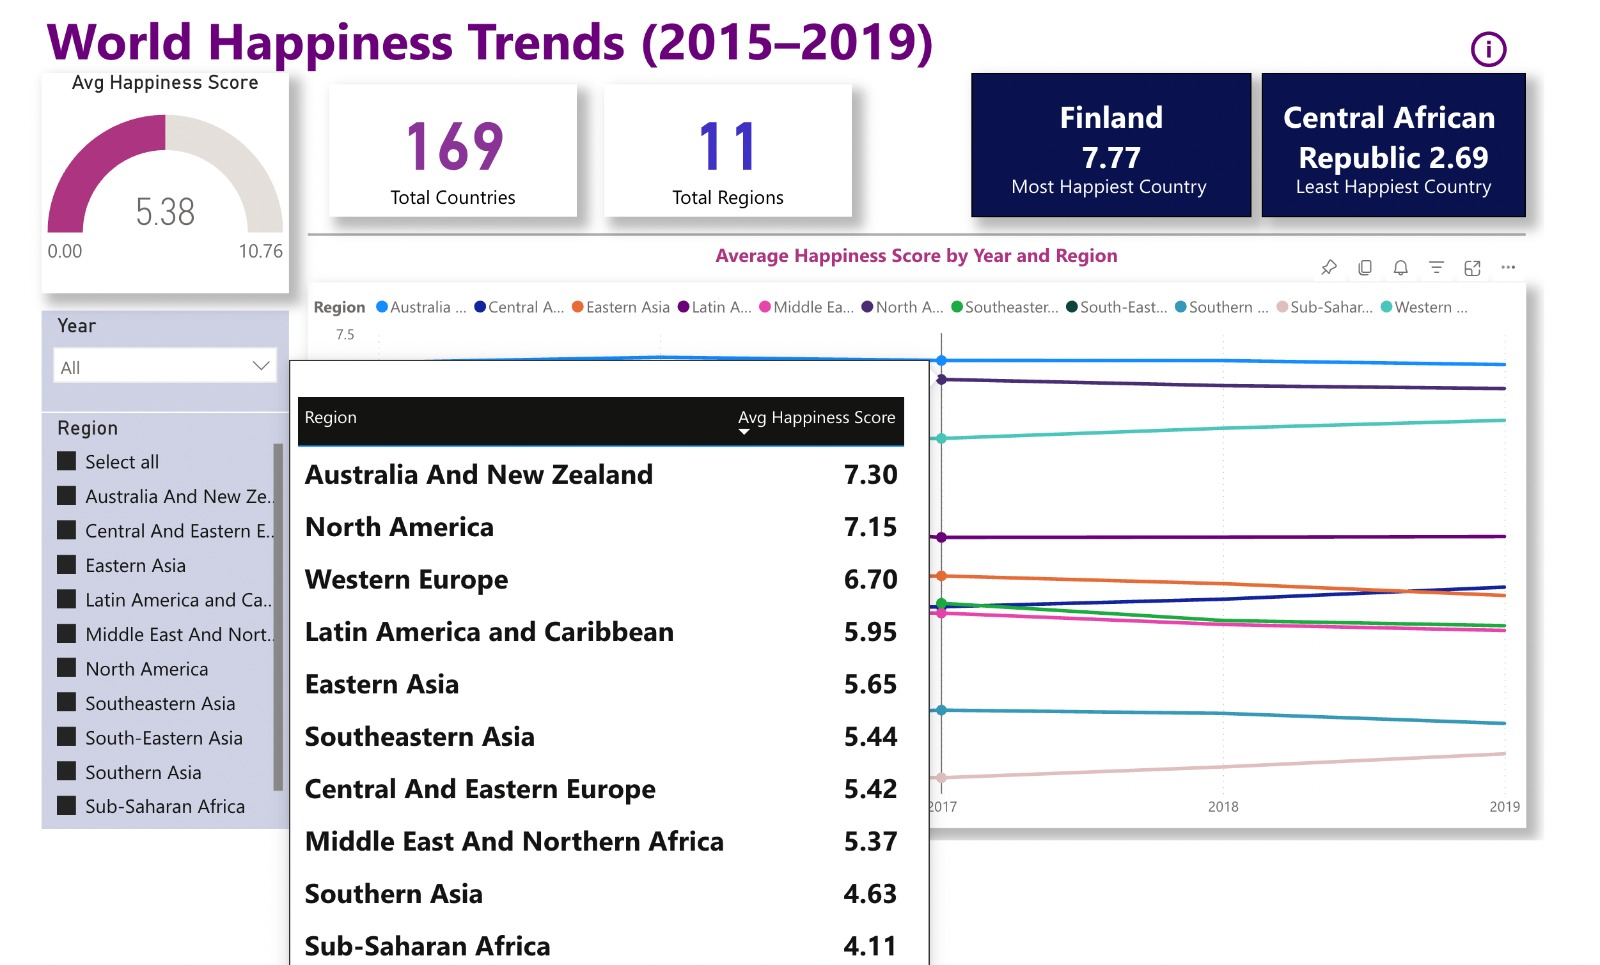

The page's visual inventory and layout, read from the dashboard file:
{"tool":"powerbi","page":{"name":"Trends & Overview","canvas":[1280,720],"ordinal":0},"visuals":[{"type":"textbox","box":[15.3,12.2,1198.3,76.6],"z":0},{"type":"slicer","fields":{"Values":["Master_Data.Year"]},"box":[16.6,256.2,207.9,74.9],"z":1000},{"type":"slicer","fields":{"Values":["Master_Data.Region"]},"box":[16.6,331,207.9,378.4],"z":2000},{"type":"card","fields":{"Values":["Master_Data.Total Countries"]},"box":[258.3,84,208.1,111.6],"z":3000},{"type":"card","fields":{"Values":["Master_Data.Total Regions"]},"box":[488.9,84,208.1,111.6],"z":4000},{"type":"lineChart","fields":{"Category":["Master_Data.Year"],"Y":["Master_Data.Avg Happiness Score"],"Series":["Master_Data.Region"]},"box":[239.5,250.7,1024.3,458.8],"z":5000},{"type":"gauge","fields":{"Y":["Master_Data.Avg Happiness Score"]},"box":[16.6,74,207.9,169.7],"z":6000},{"type":"card","fields":{"Values":["Master_Data.Most Happiest Country"]},"box":[797.3,74,235.7,121.6],"z":7000},{"type":"card","fields":{"Values":["Master_Data.Least Happiest Country"]},"box":[1041.8,74,221.9,121.6],"z":8000},{"type":"textbox","box":[239.5,210.6,1024.3,40.1],"z":9000},{"type":"shape","box":[239.5,199.3,1024.3,22.6],"z":10000},{"type":"actionButton","box":[1213.3,33.9,66.7,40],"z":11000}]}

Visuals, with their boxes on the page's 1280x720 design canvas (x1, y1, x2, y2). These are canvas units, not pixel positions in the 1600x965 screenshot, which may show the page scaled, cropped or inside an application window:
textbox: (15, 12, 1214, 89)
slicer - Master_Data.Year: (17, 256, 224, 331)
slicer - Master_Data.Region: (17, 331, 224, 709)
card - Master_Data.Total Countries: (258, 84, 466, 196)
card - Master_Data.Total Regions: (489, 84, 697, 196)
lineChart - Master_Data.Year x Master_Data.Avg Happiness Score: (240, 251, 1264, 710)
gauge - Master_Data.Avg Happiness Score: (17, 74, 224, 244)
card - Master_Data.Most Happiest Country: (797, 74, 1033, 196)
card - Master_Data.Least Happiest Country: (1042, 74, 1264, 196)
textbox: (240, 211, 1264, 251)
shape: (240, 199, 1264, 222)
actionButton: (1213, 34, 1280, 74)
